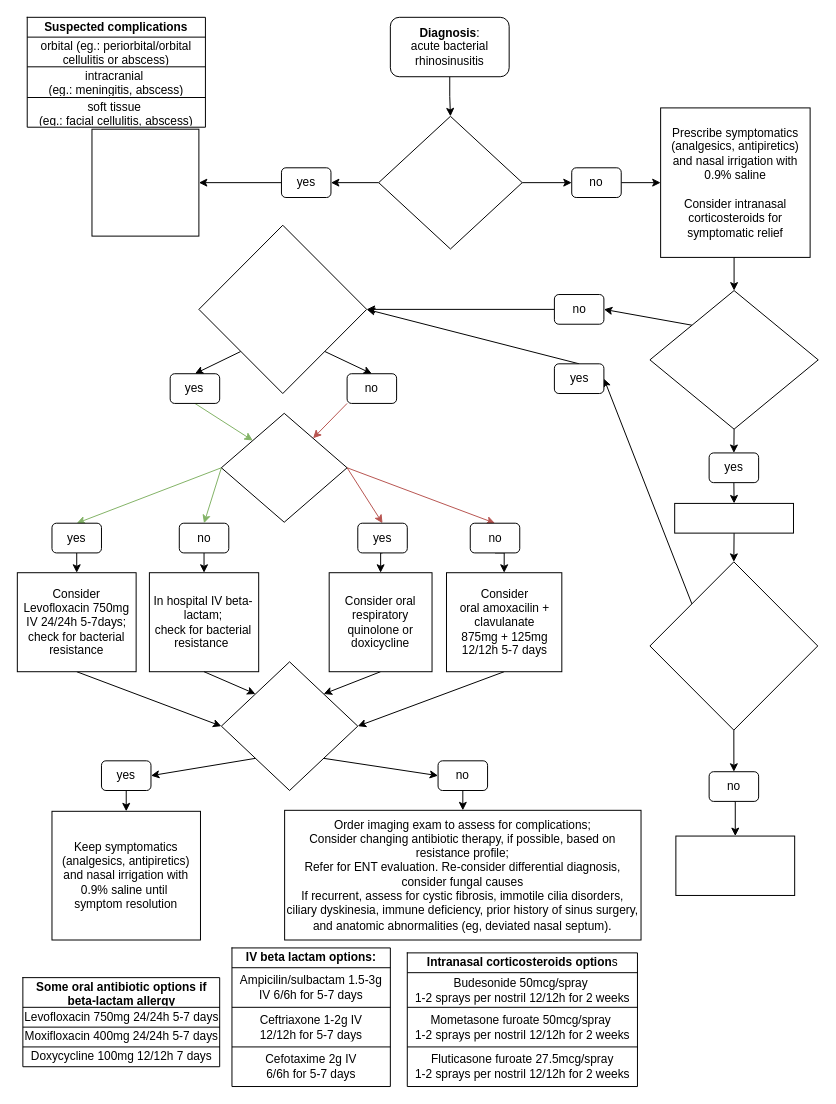
The diagram is 836 pixels wide and 1104 high, and some of its shapes have lost their labels. The shapes that lost their labels are listed below. From the top down, each one's box as (x1, y1, x2, y2) in pixels, then its label:
(91, 128, 199, 236): Consider the need for hospitalization Order imaging exam and manage accordingly
(378, 115, 522, 249): Is there suspicion for complications?
(198, 224, 367, 394): Is there severe infection in need of hospitalization?
(649, 290, 818, 429): Is the patient eligible for watchful waiting?
(220, 412, 347, 522): beta-lactam allergy?
(674, 502, 793, 533): Reassess in 7 days
(649, 561, 818, 730): Getting worse or not improving after 7 days?
(220, 661, 358, 791): Is patient clinically better?
(675, 835, 795, 895): Keep current management until resolution
